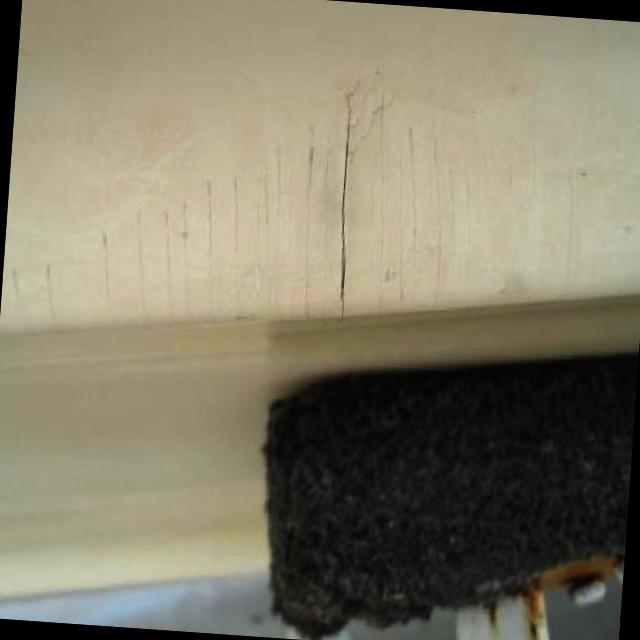crack: (327, 97, 361, 321)
